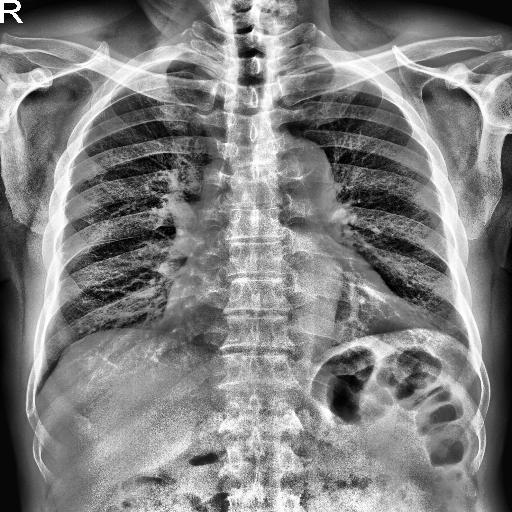0- Aortic enlargement: (202, 128, 350, 230), (223, 134, 335, 197)
13- Pulmonary fibrosis: (378, 287, 461, 341)
2- Calcification: (270, 151, 324, 190)
